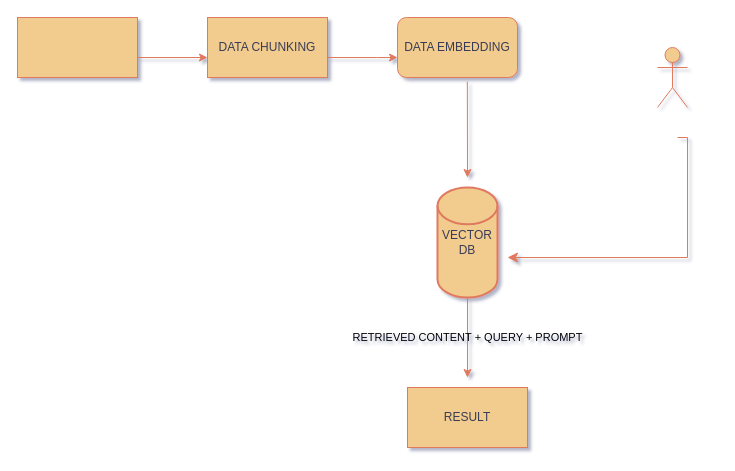
Image size: 735x471. Some labels were removed from this diagram. Each missing label, with the centre of its shape:
"DATA LOADERS" belongs at [77,47].
"USER QUERY" belongs at [672,77].
